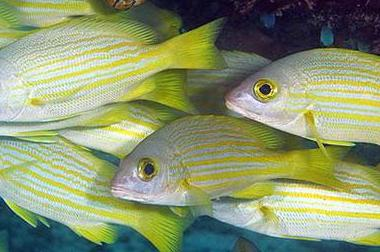Lutjanidae -Snappers-: (0, 13, 228, 127), (105, 109, 358, 211)
